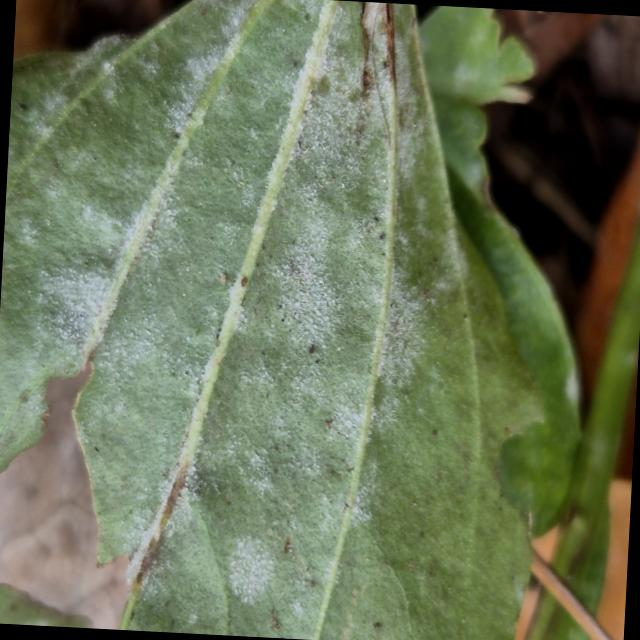powdery_mildew: (0, 0, 570, 640)
